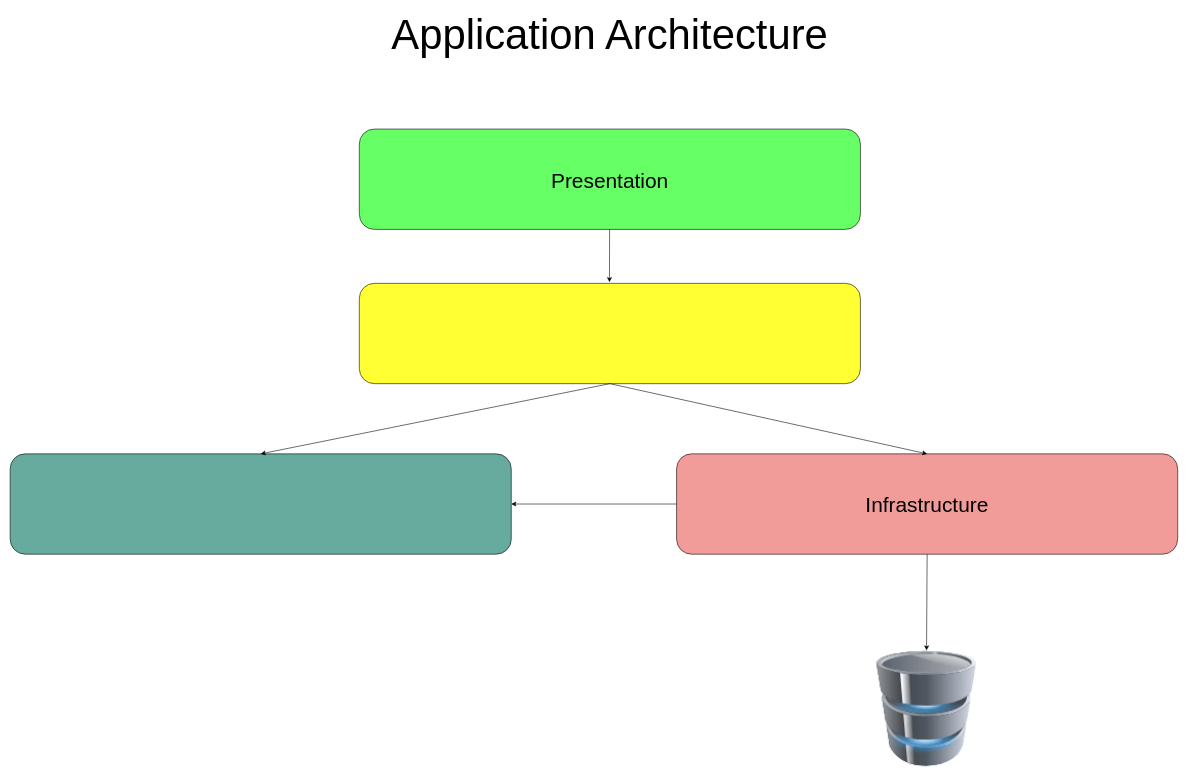
This 1188x776 diagram has some shape labels left out. Here are the shapes that lost their labels. From the top down, the centre of each, then its label:
At (x=609, y=333): "Application".
At (x=260, y=503): "Domain".
